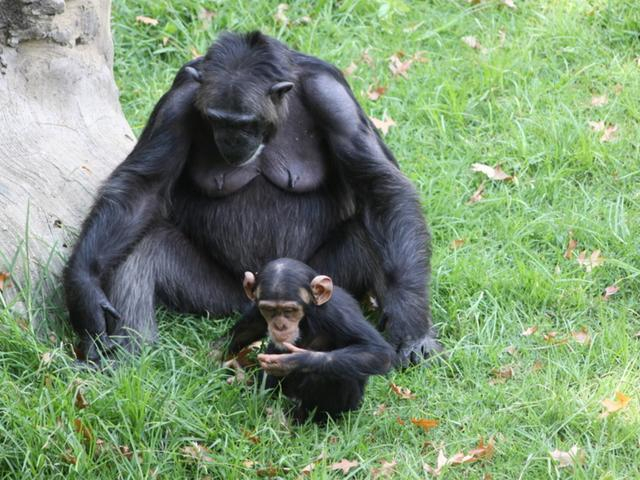monkey: (46, 34, 438, 358), (220, 243, 359, 403)
